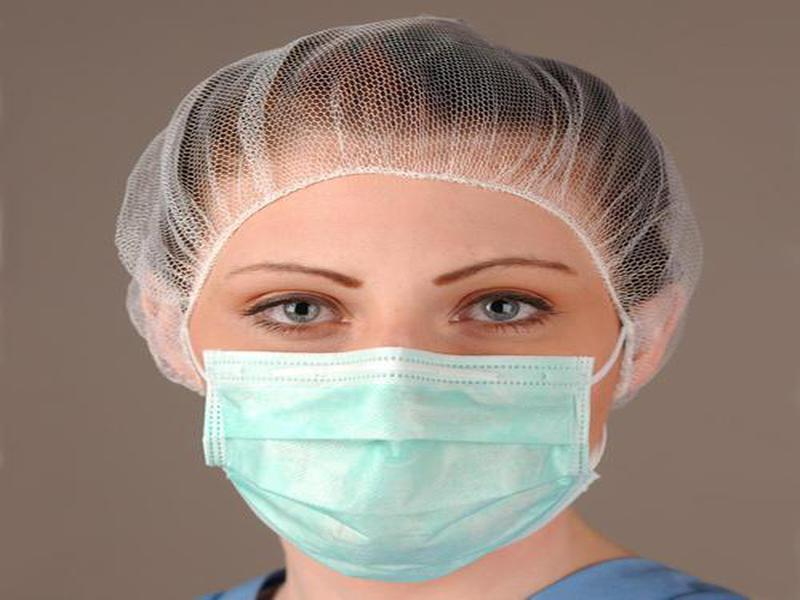with_mask: (186, 152, 625, 585)
